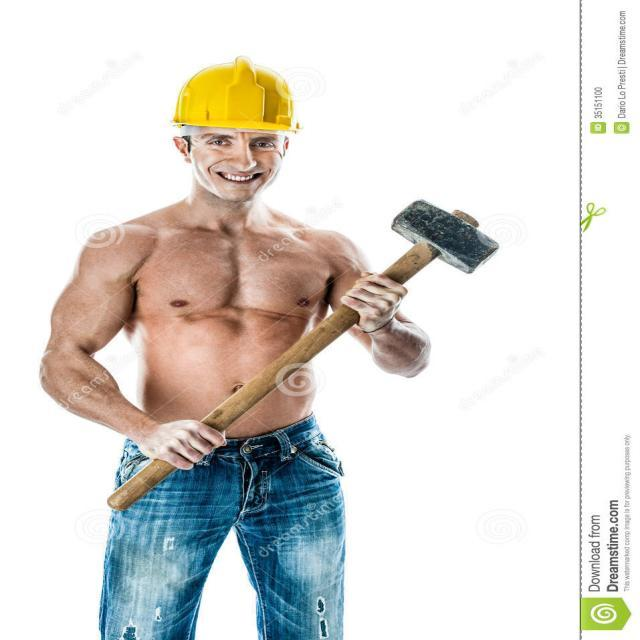hammer: (98, 178, 500, 520)
